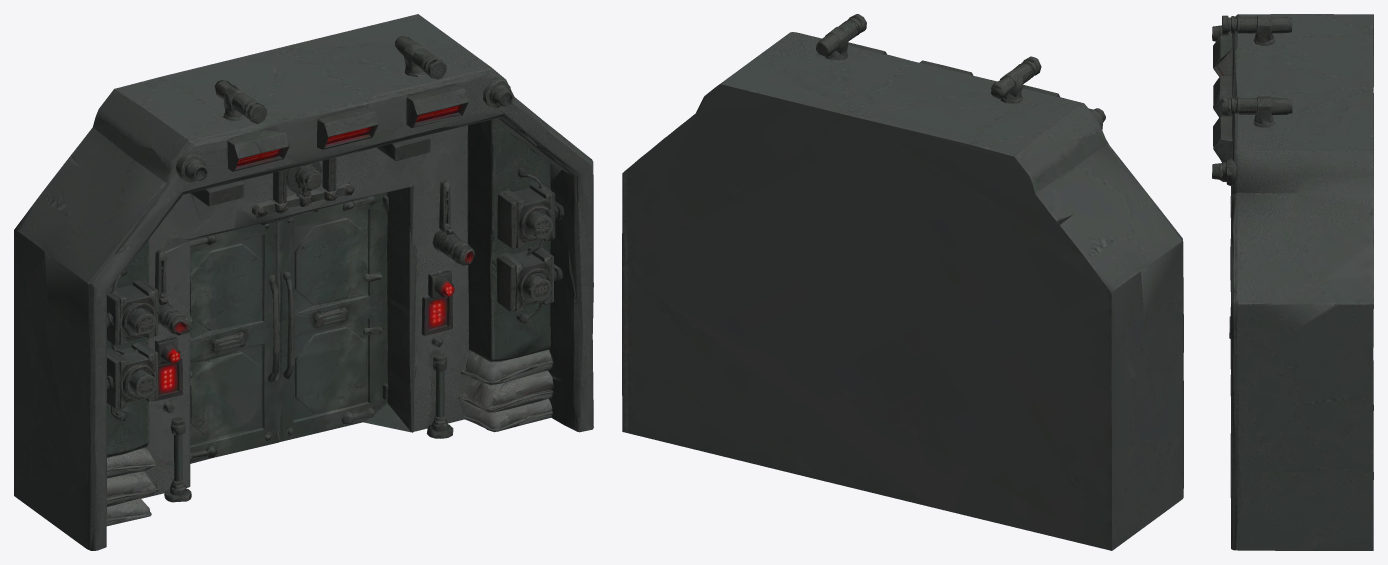
File: mx_map_bunker.glb
The picture shows the model from 3 angles, left to right: view 1: azimuth 30°, elevation 25°; view 2: azimuth 150°, elevation 25°; view 3: azimuth 270°, elevation 25°; orthographic projection. The views are drawn at different scales.
Size of the model in its own units: 1.9 by 1.48 by 0.5707.
1 material, 1 textured.
